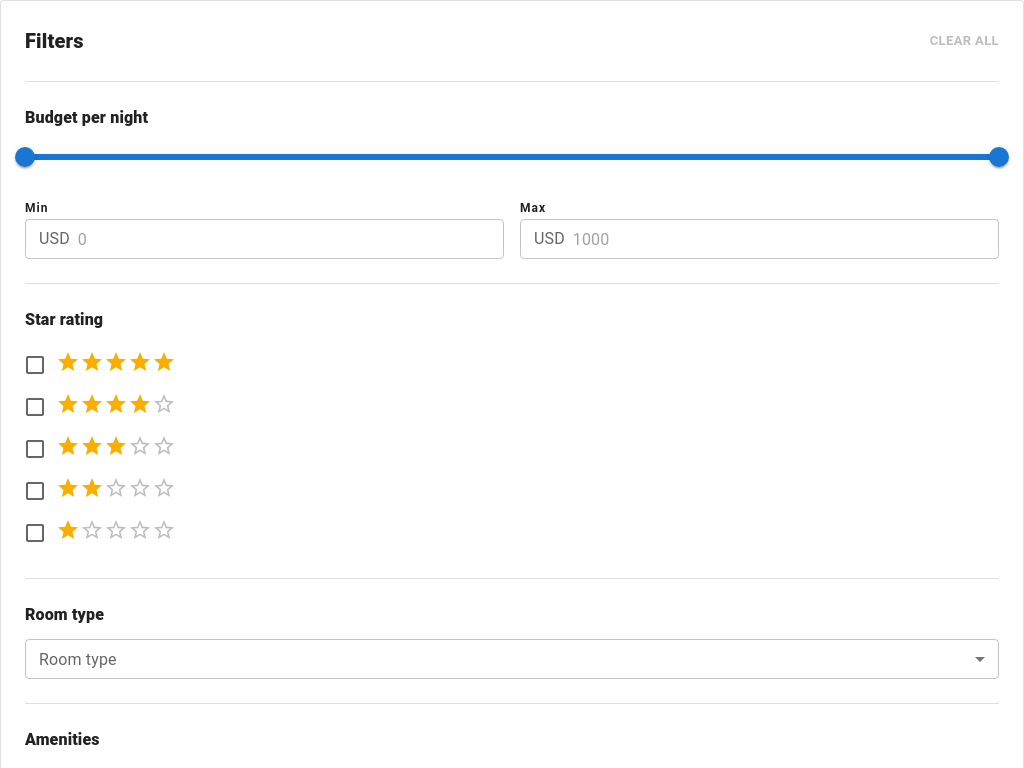
Test: SearchFilters › renders amenities and room types
Press the mouse on the dropdown at point(512, 659), box [25,639,999,679]
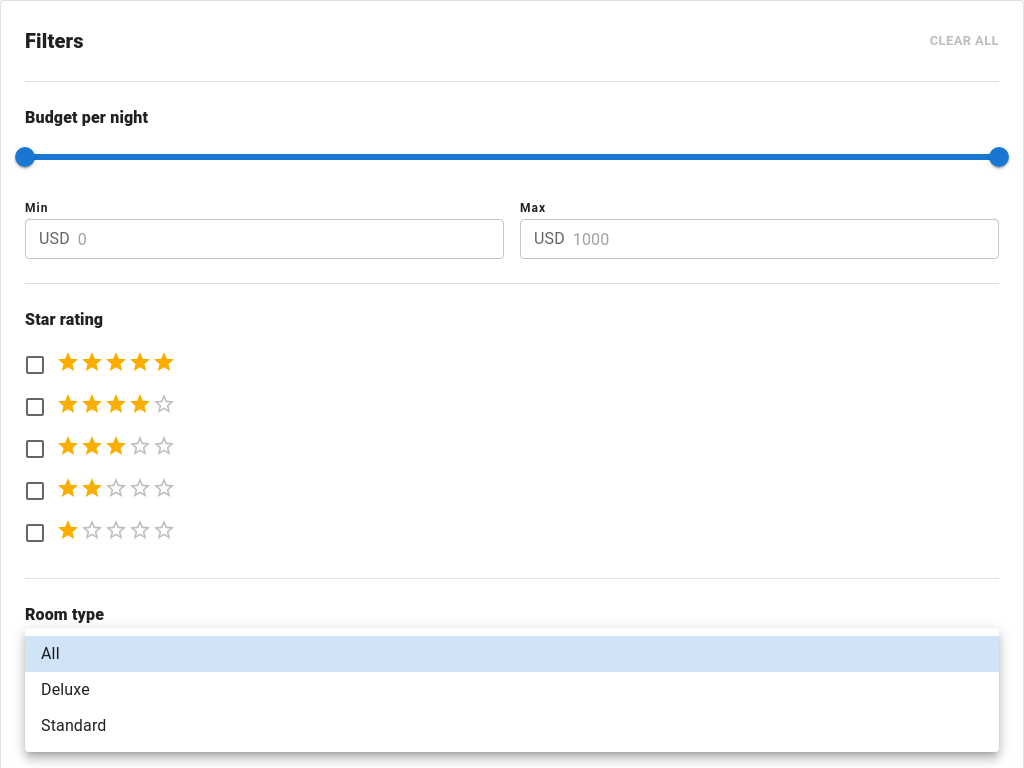
Expected: the option "Deluxe" is shown, [41,680,90,699]
Expected: the option "Standard" is shown, [41,716,106,735]
